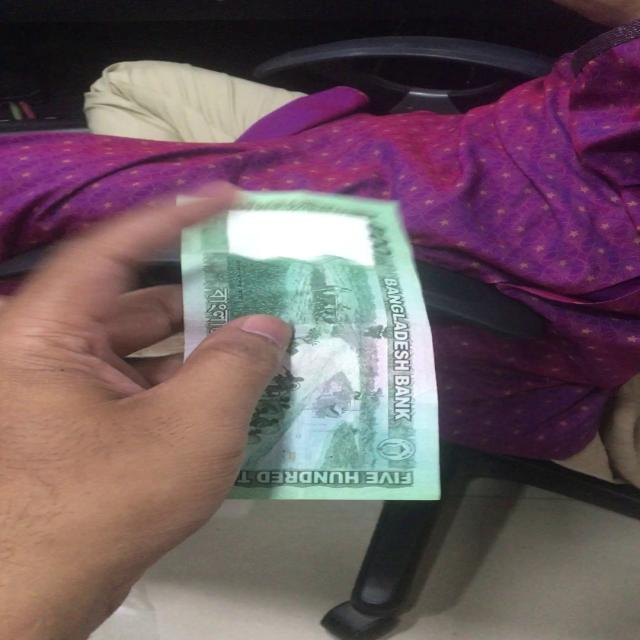Taka: (178, 188, 440, 508)
